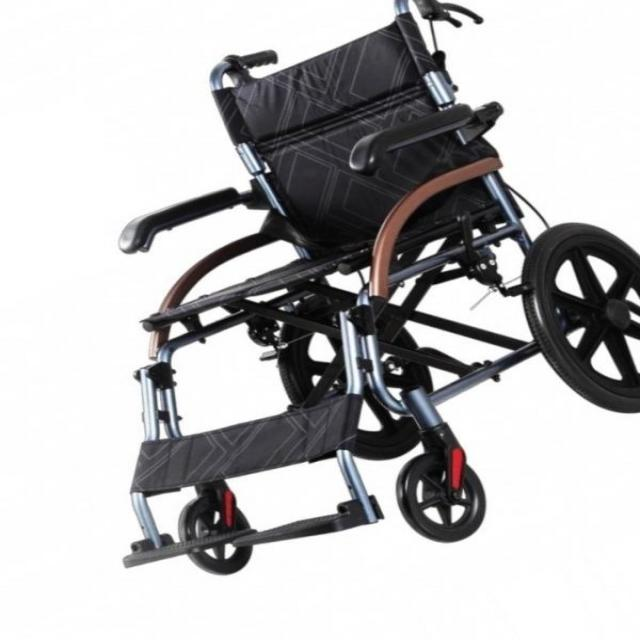wheelchair: (96, 0, 640, 582)
